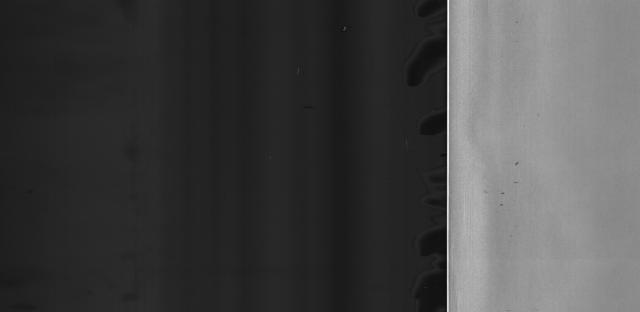inclusion: (493, 191, 508, 210), (511, 176, 524, 189), (512, 158, 526, 169)
